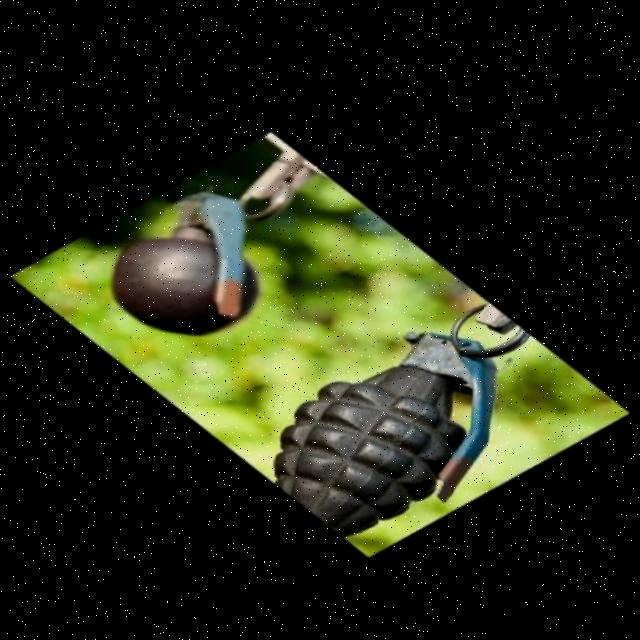grenade: (238, 264, 551, 585)
